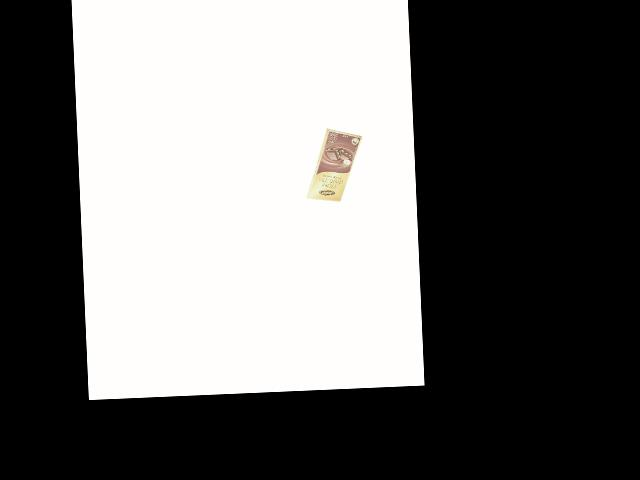chocolate: (301, 120, 365, 203)
